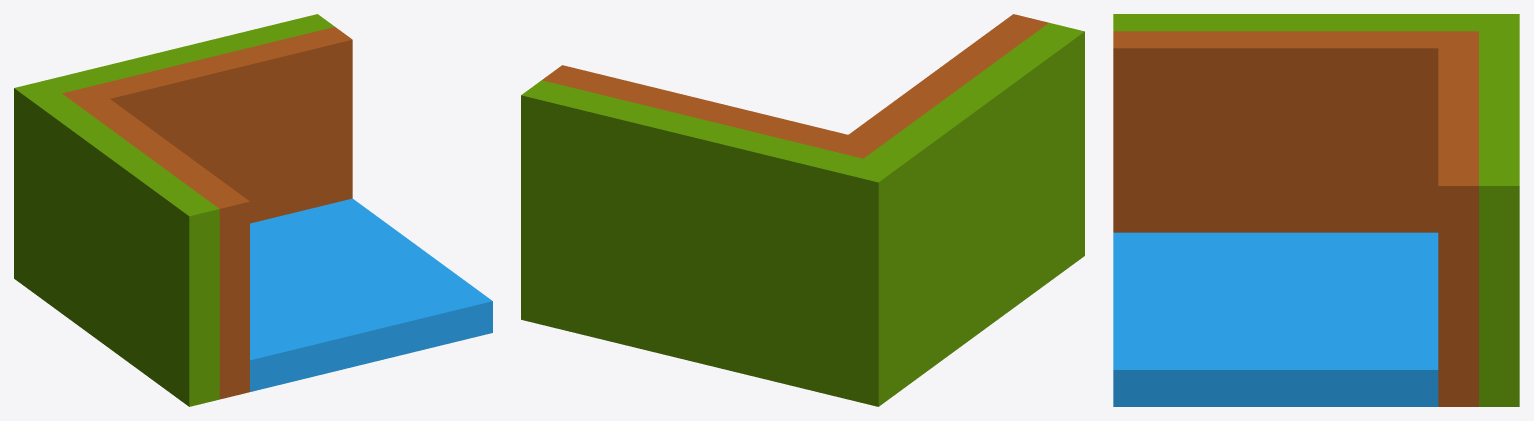
The model's file is TileWater_20.fbx.
3 views of the same model, side by side, from view 1: azimuth 30°, elevation 25°; view 2: azimuth 150°, elevation 25°; view 3: azimuth 270°, elevation 25° (orthographic). The views are drawn at different scales.
Visible parts, largest first — view 1: TileWater_20; view 2: TileWater_20; view 3: TileWater_20.
Boxes of the visible parts, box(x1,y1,x2,y2) form: TileWater_20: box(14, 14, 492, 406); TileWater_20: box(521, 14, 1084, 406); TileWater_20: box(1113, 14, 1519, 406).
Size of the model in its own units: 500 by 300 by 500.
